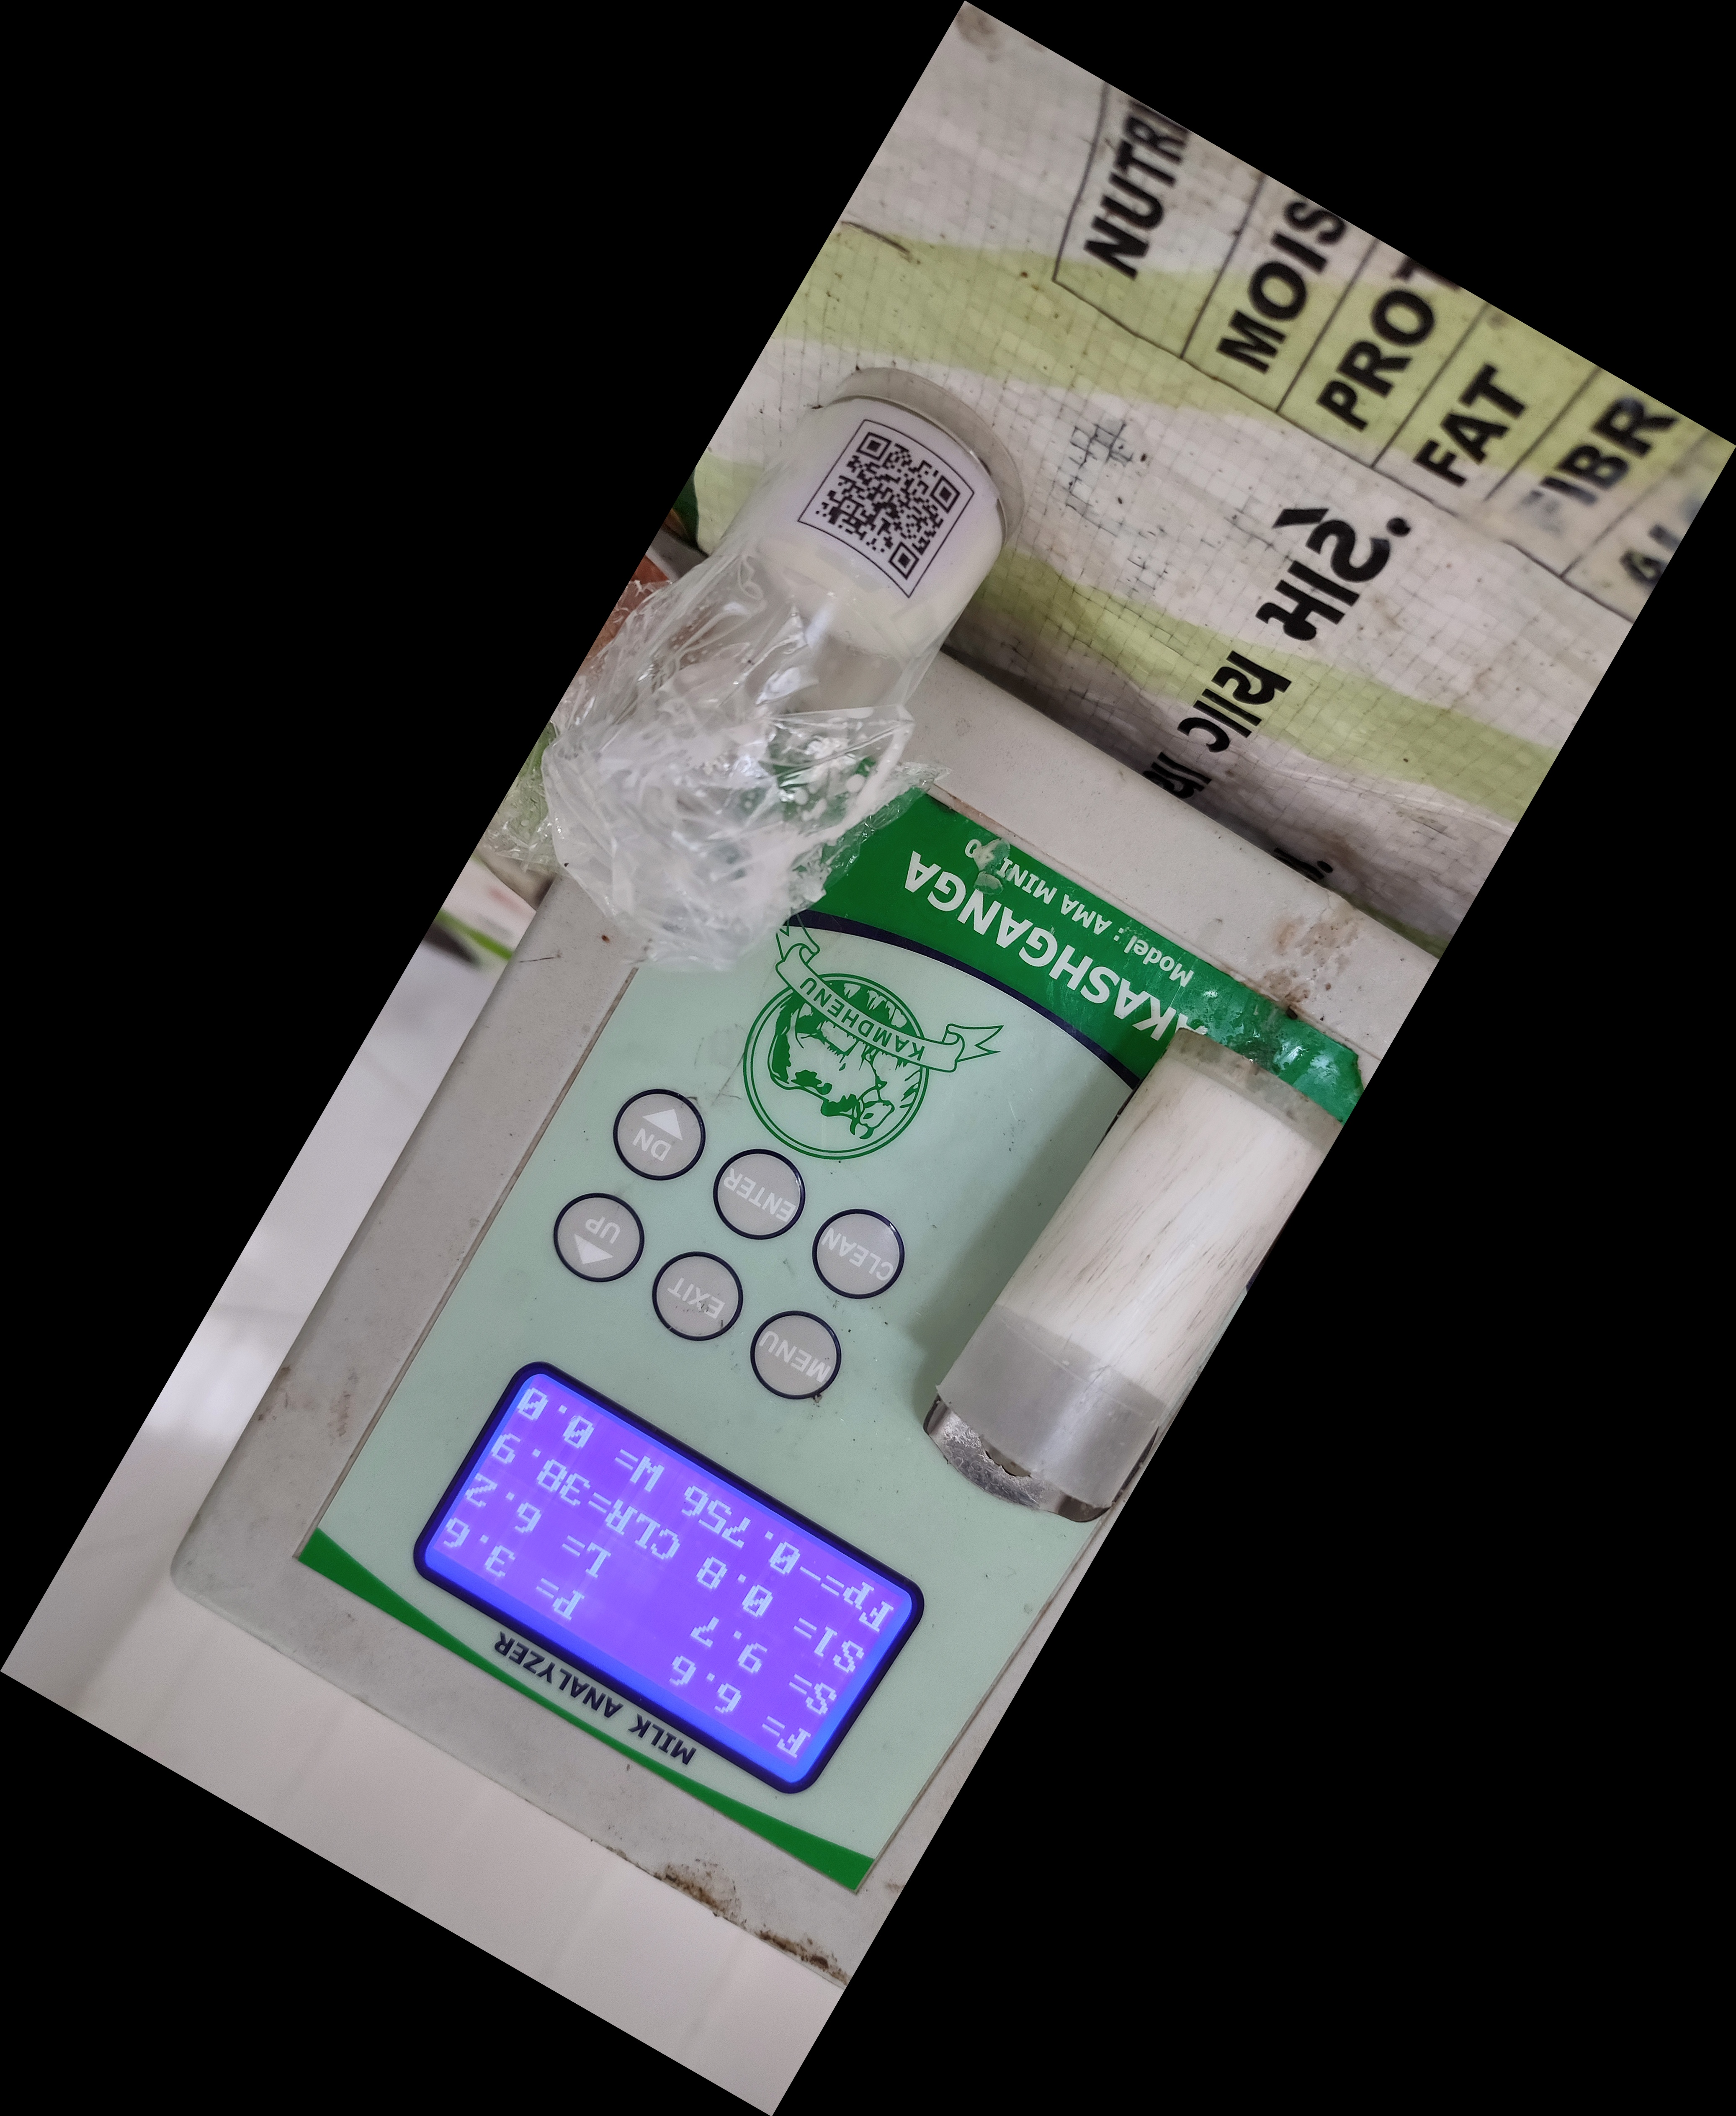lcd: (399, 1357, 933, 1824)
qr: (792, 409, 982, 613)
